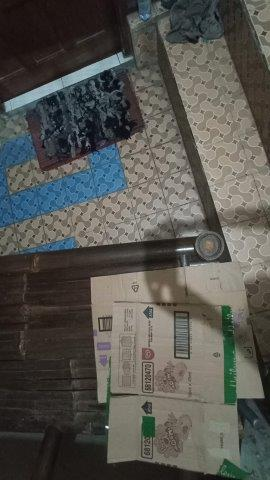kardus: (92, 264, 263, 476)
